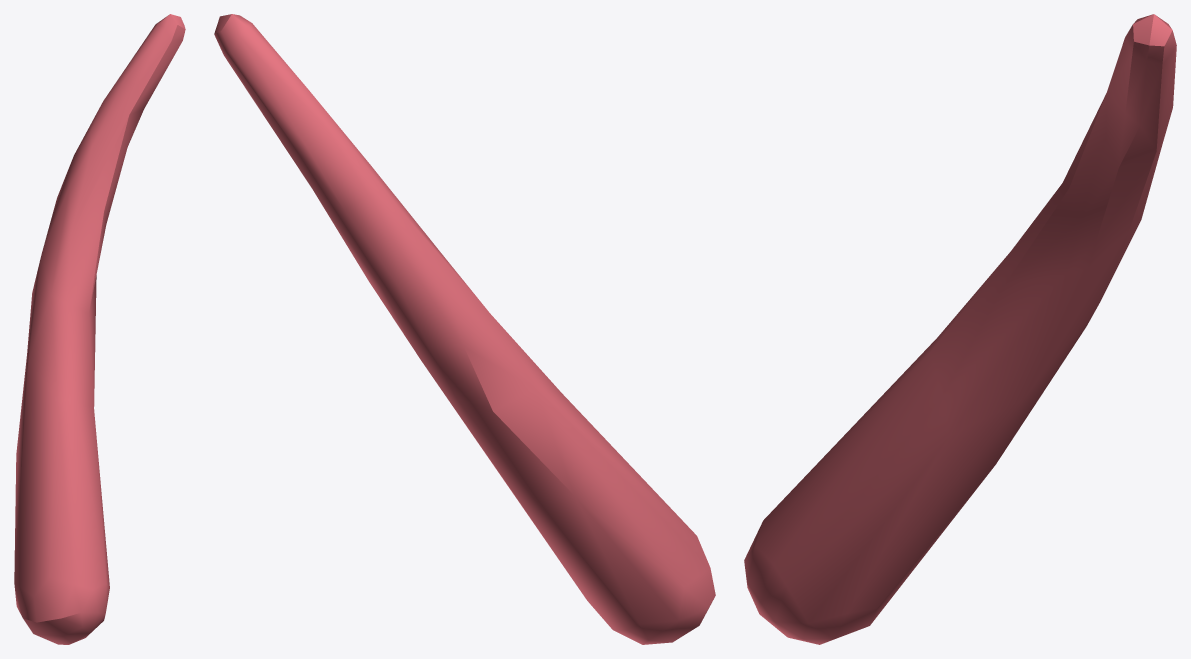
The model's file is fma8634_fj2918.glb.
The picture shows the model from 3 angles, left to right: view 1: azimuth 30°, elevation 25°; view 2: azimuth 150°, elevation 25°; view 3: azimuth 270°, elevation 25°; orthographic projection. The views are drawn at different scales.
Visible parts, largest first — view 1: FMA8634_FJ2918; view 2: FMA8634_FJ2918; view 3: FMA8634_FJ2918.
Part boxes in pixels (bbox=[...]): FMA8634_FJ2918: bbox=[14, 14, 185, 644]; FMA8634_FJ2918: bbox=[214, 14, 715, 644]; FMA8634_FJ2918: bbox=[744, 14, 1176, 644].
Bounding box in the file's own units: 0.00922 × 0.0165 × 0.00818.
